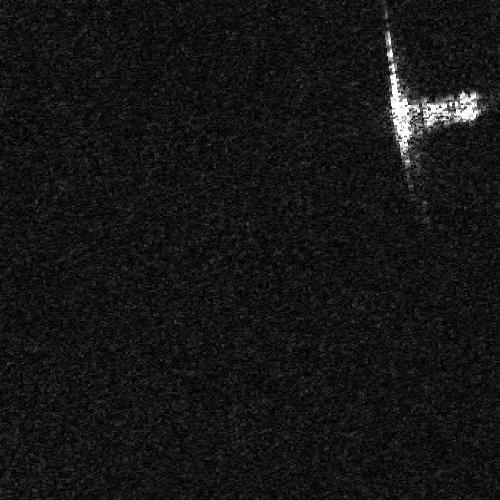ship: (391, 96, 493, 140)
